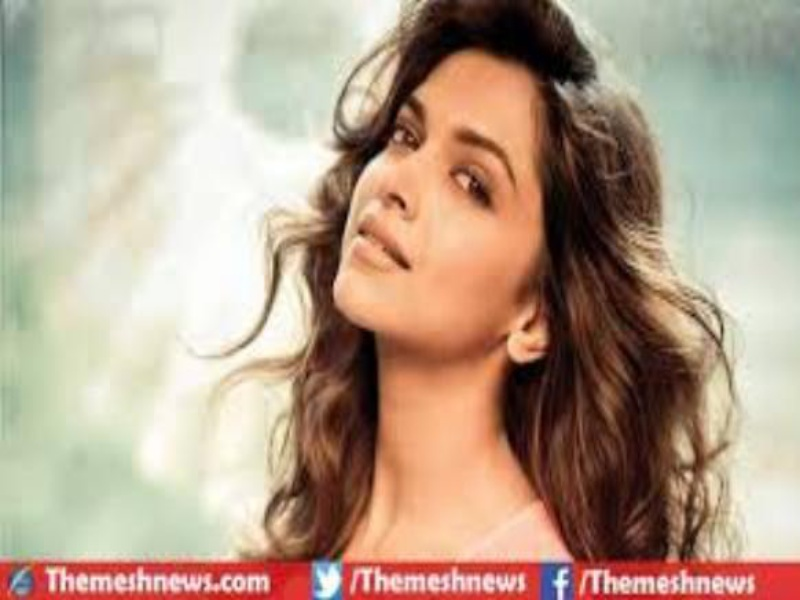TsisyArotava: (323, 36, 558, 394)
